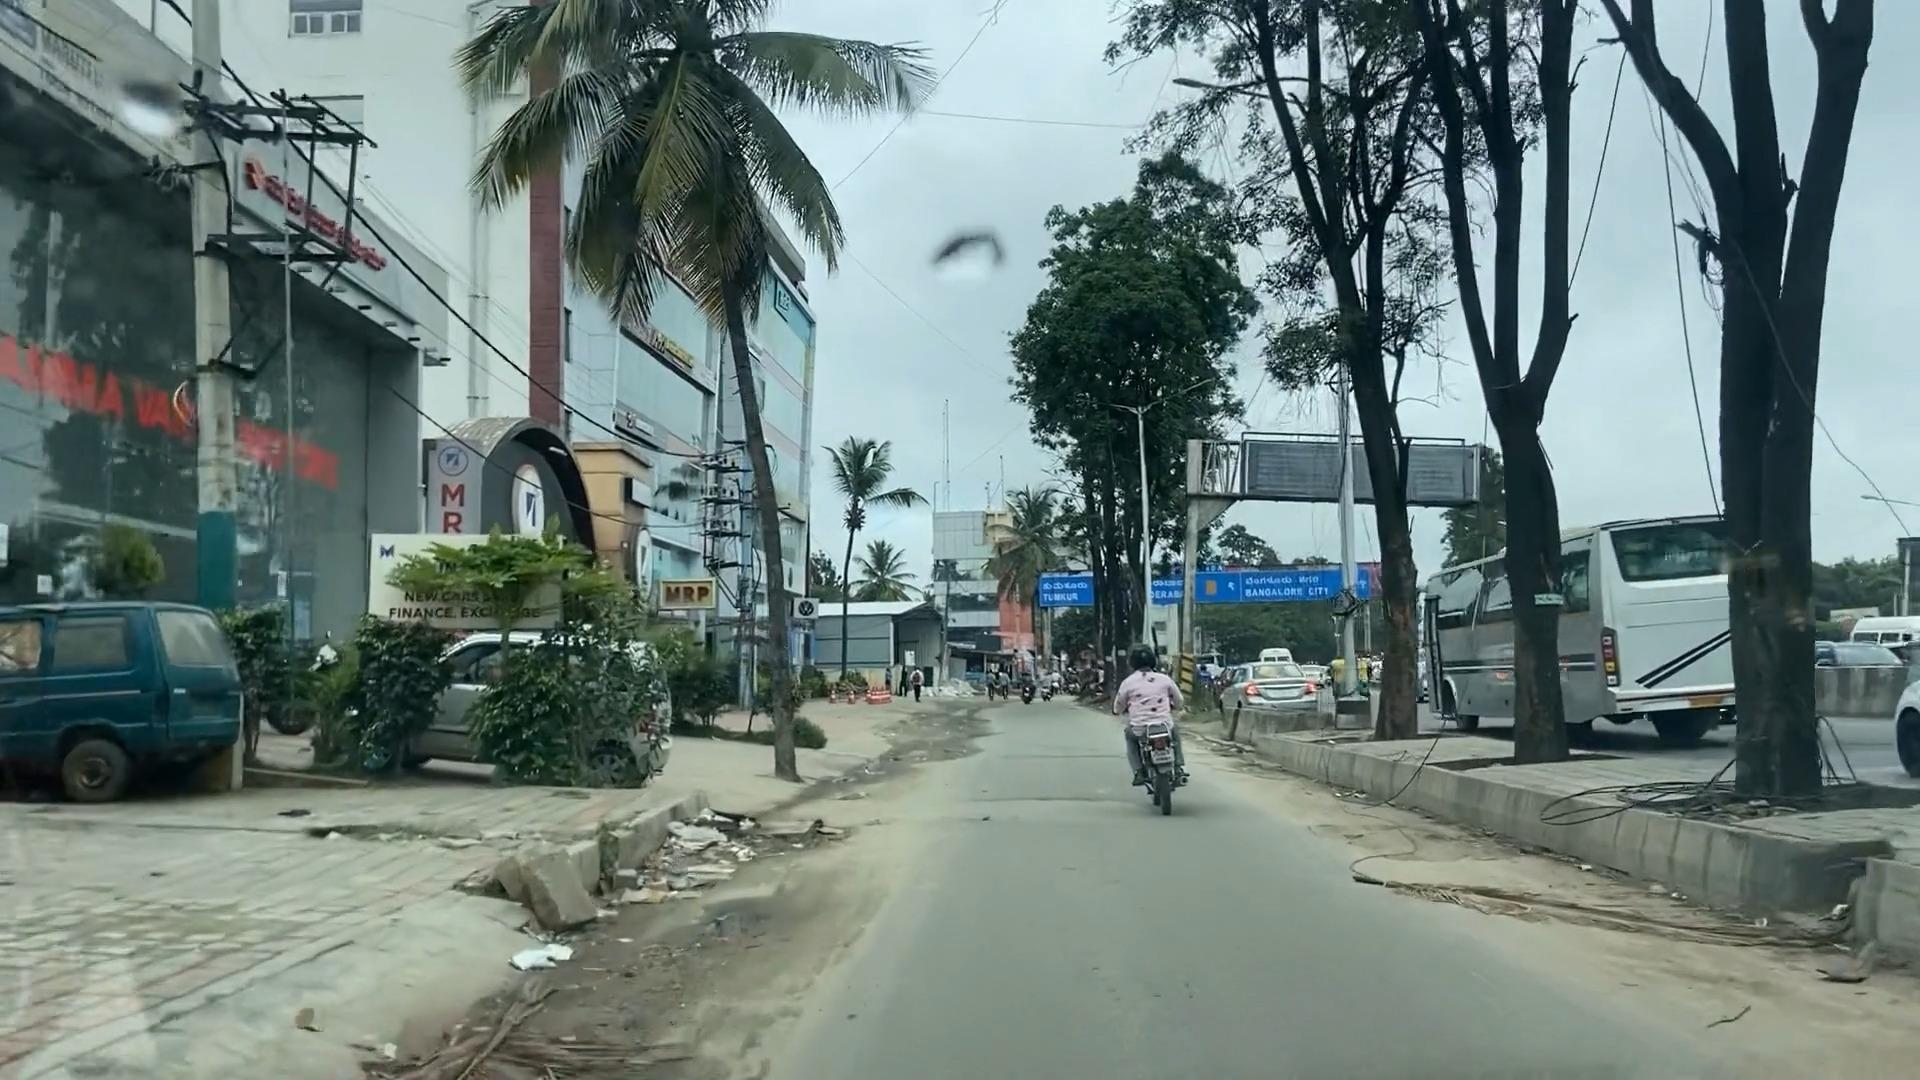LMV: (1110, 646, 1195, 815)
RoadDamages: (1350, 836, 1825, 981), (640, 893, 873, 1010)
